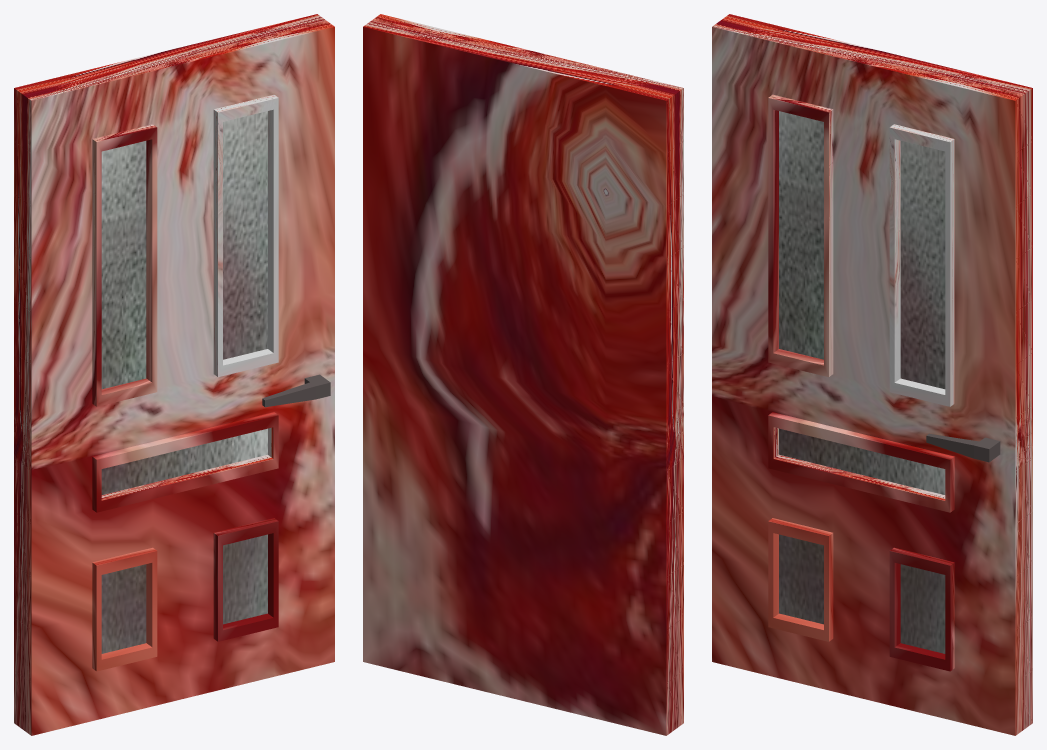
The model's file is Puerta_26.fbx.
3 renders of one model, left to right at view 1: azimuth 30°, elevation 25°; view 2: azimuth 150°, elevation 25°; view 3: azimuth 330°, elevation 25°, orthographic.
Parts seen in each view (by area): view 1: Cube.026; view 2: Cube.026; view 3: Cube.026.
Boxes of the visible parts, <box> form: Cube.026: <box>14,14,334,735</box>; Cube.026: <box>363,14,683,735</box>; Cube.026: <box>712,14,1032,735</box>.
Size of the model in its own units: 200 by 400 by 32.54.
